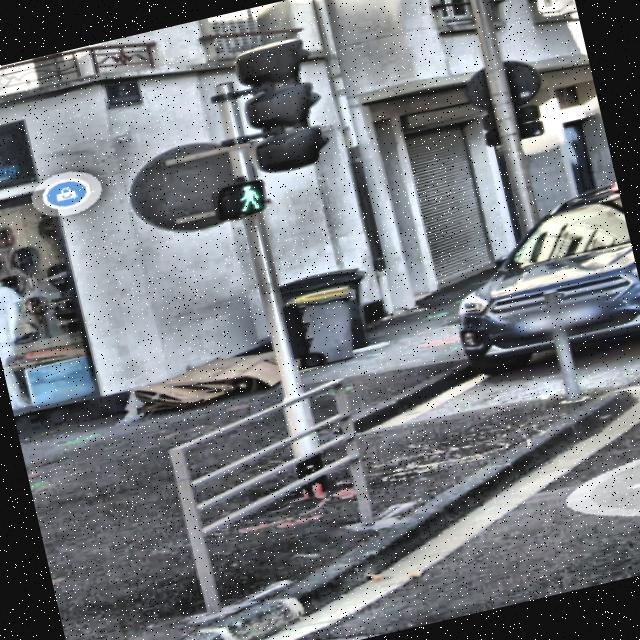green_light: (228, 177, 264, 214)
